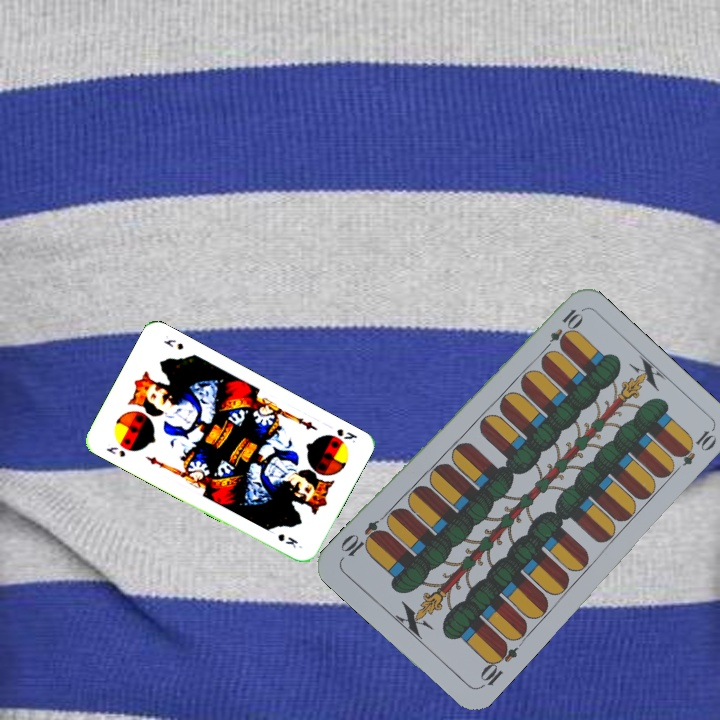E10: (475, 638, 521, 691), (538, 304, 584, 356)
SK: (333, 424, 360, 445), (102, 443, 128, 460)
